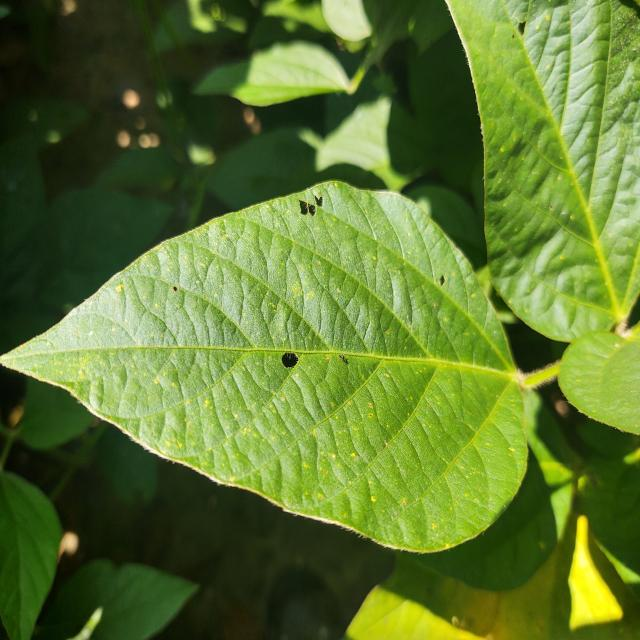Soybean: (0, 2, 640, 640)
downey_mildew: (273, 342, 310, 376), (298, 192, 323, 217), (452, 615, 472, 631), (437, 266, 448, 291), (517, 18, 527, 31), (171, 285, 178, 293)
